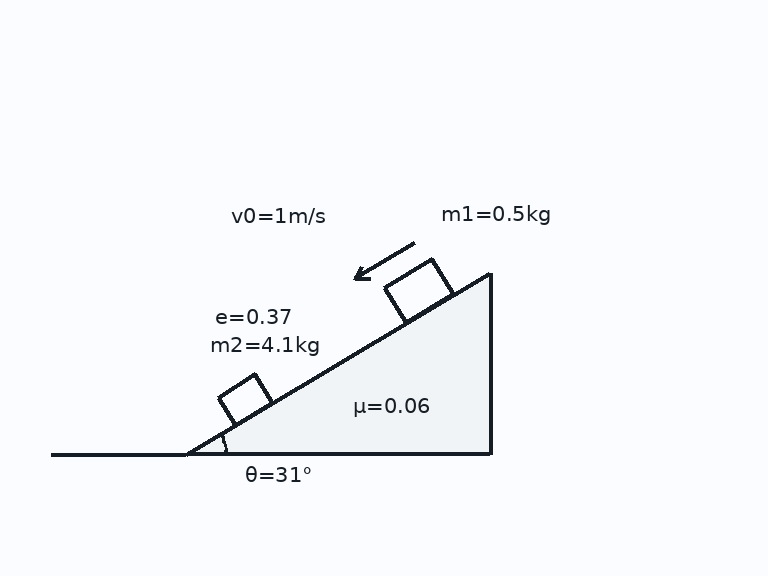block: (382, 257, 455, 324), (216, 373, 274, 427)
ramp: (184, 270, 491, 456)
